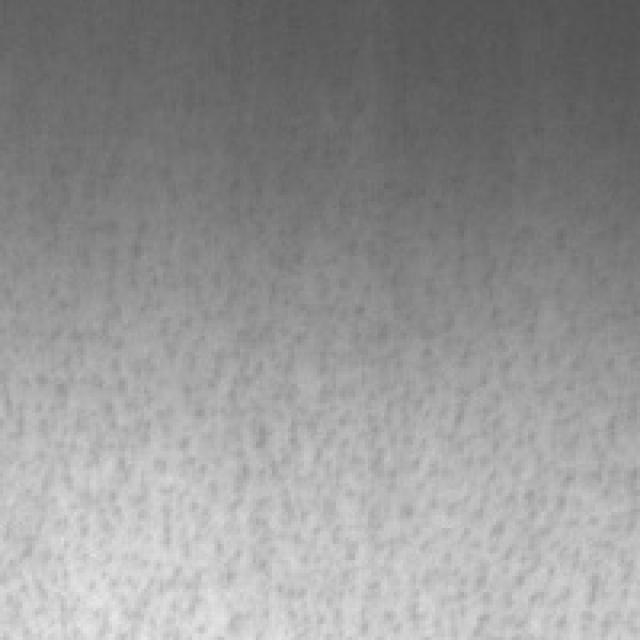pitted_surface: (0, 179, 637, 637)
